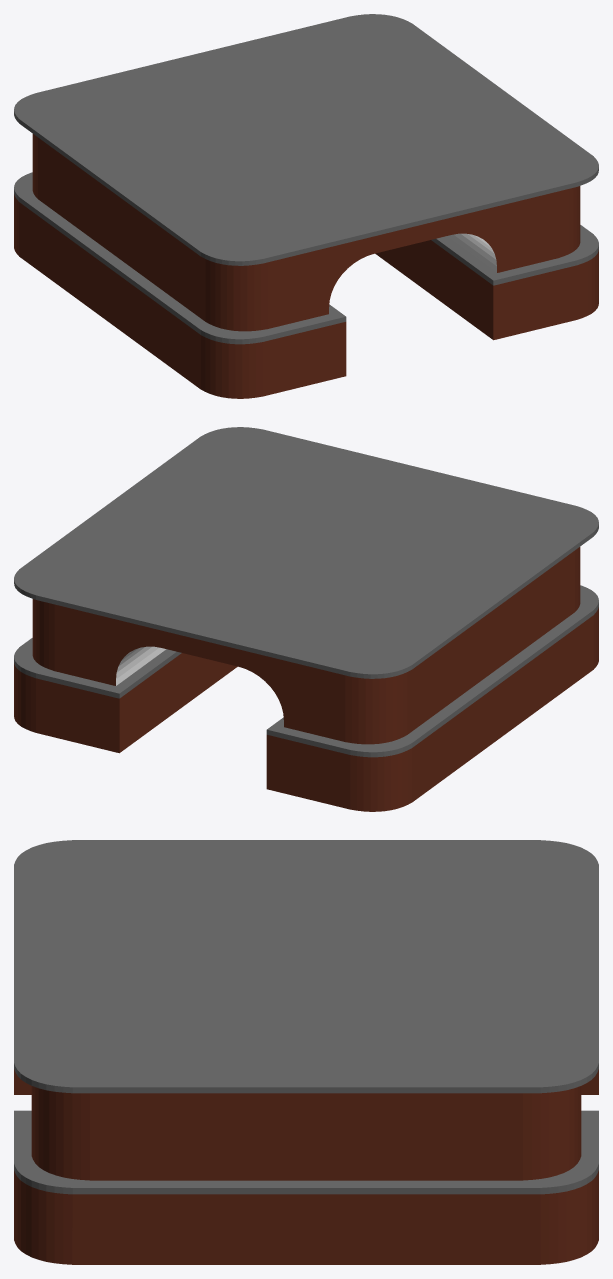
File: flatgrass.fbx
3 renders of one model, top to bottom at view 1: azimuth 30°, elevation 25°; view 2: azimuth 150°, elevation 25°; view 3: azimuth 270°, elevation 25°, orthographic. The views are drawn at different scales.
Visible parts, largest first — view 1: Cube; view 2: Cube; view 3: Cube.
Boxes of the visible parts, x1,y1,x2,y2 form: Cube: [14, 14, 598, 398]; Cube: [14, 427, 598, 811]; Cube: [14, 840, 598, 1264].
Size of the model in its own units: 2240 by 750 by 2240.
